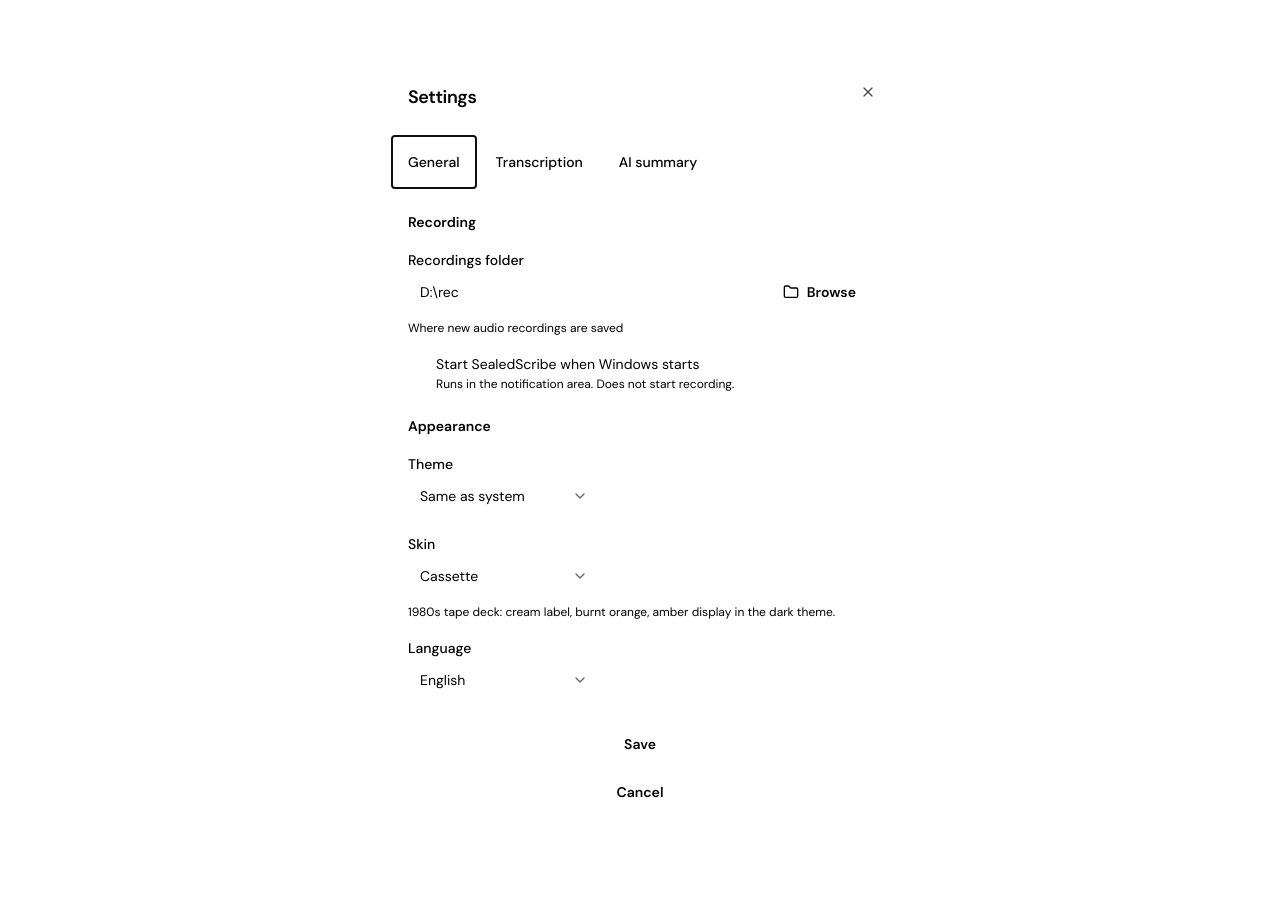
SettingsModal — moteur de transcription › masque la clé Azure Speech avec le moteur local
The image size is (1280, 900).
What coordinates should you click on to do the following:
click the tab "Transcription"
I would click on:
 (539, 162)
Its box is [480,136,599,188].
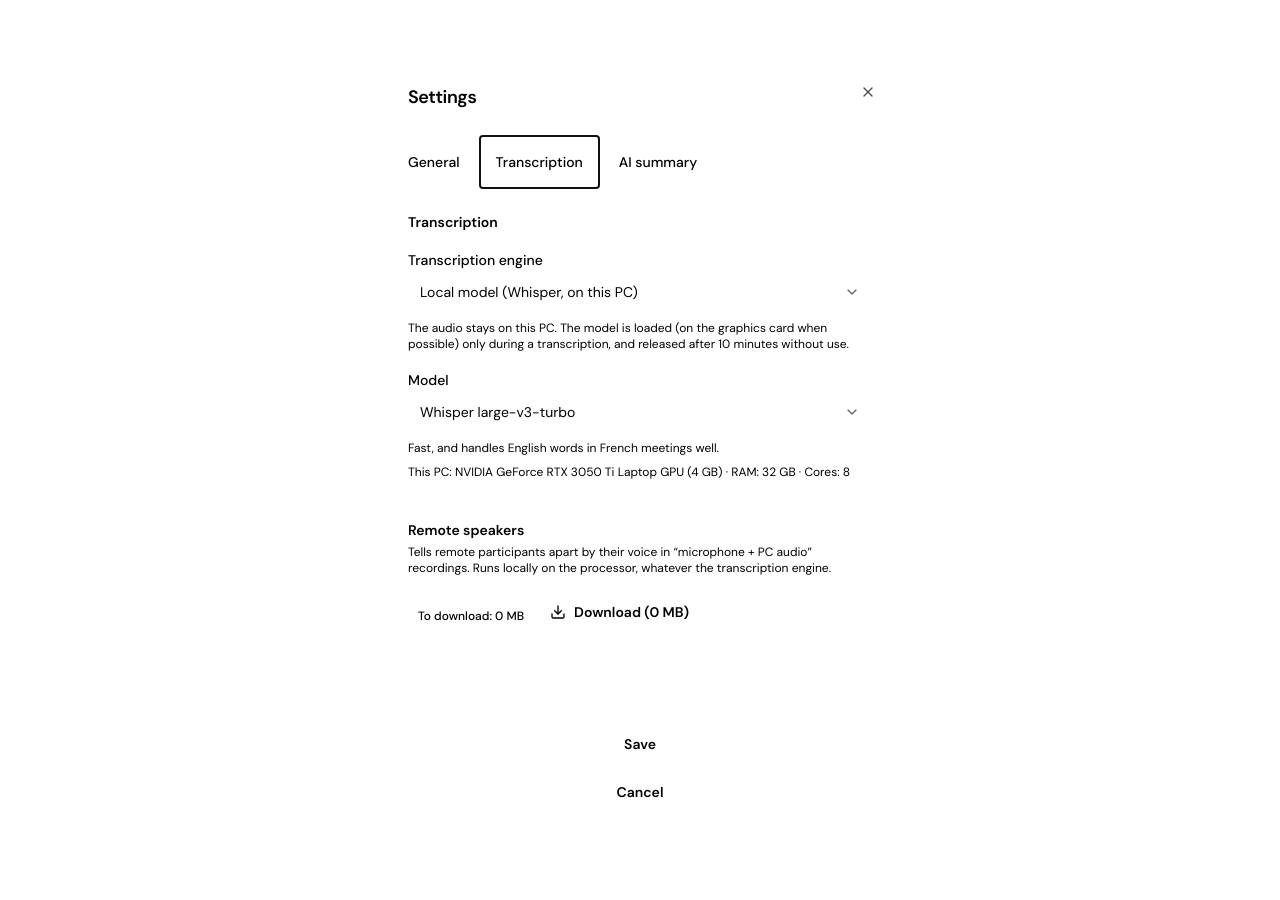
Expected: the dropdown named "Transcription engine" shows "Local model", [408,272,872,312]
